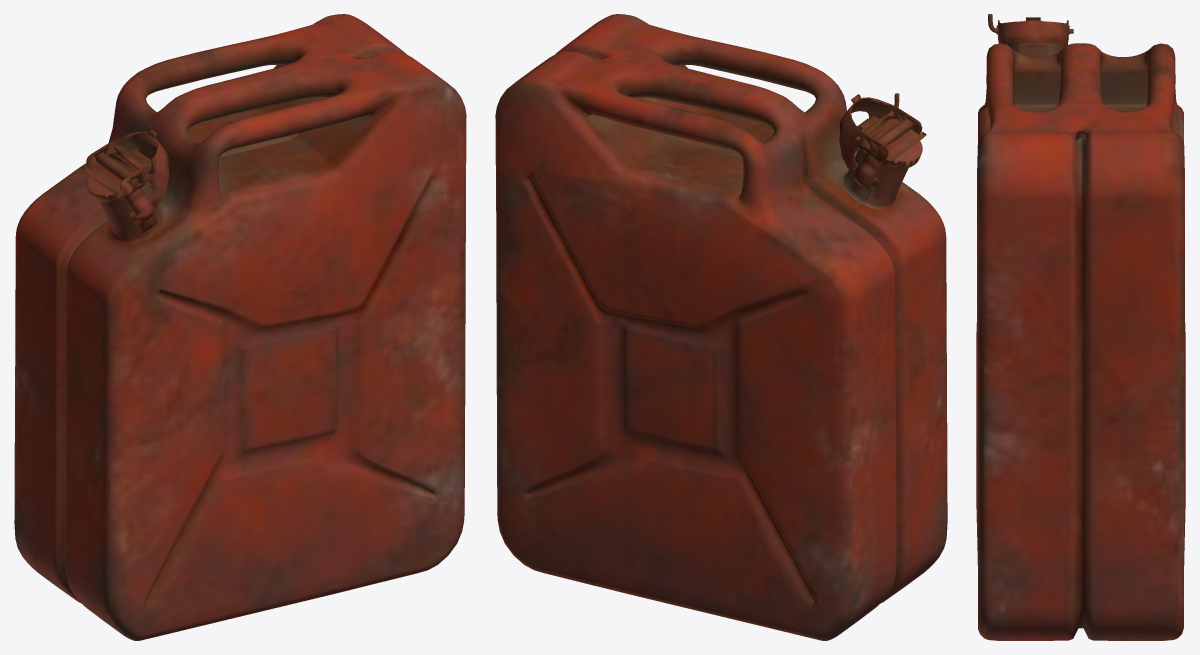
Rendered from metal_jerrycan.gltf.
3 renders of one model, left to right at view 1: azimuth 30°, elevation 25°; view 2: azimuth 150°, elevation 25°; view 3: azimuth 270°, elevation 25°, orthographic. The views are drawn at different scales.
Visible parts, largest first — view 1: metal_jerrycan; view 2: metal_jerrycan; view 3: metal_jerrycan.
Boxes of the visible parts, x1=… form: metal_jerrycan: x1=14, y1=14, x2=466, y2=640; metal_jerrycan: x1=495, y1=14, x2=947, y2=640; metal_jerrycan: x1=976, y1=14, x2=1185, y2=640.
Size of the model in its own units: 0.3503 by 0.4552 by 0.1718.
1 material, 1 textured.
